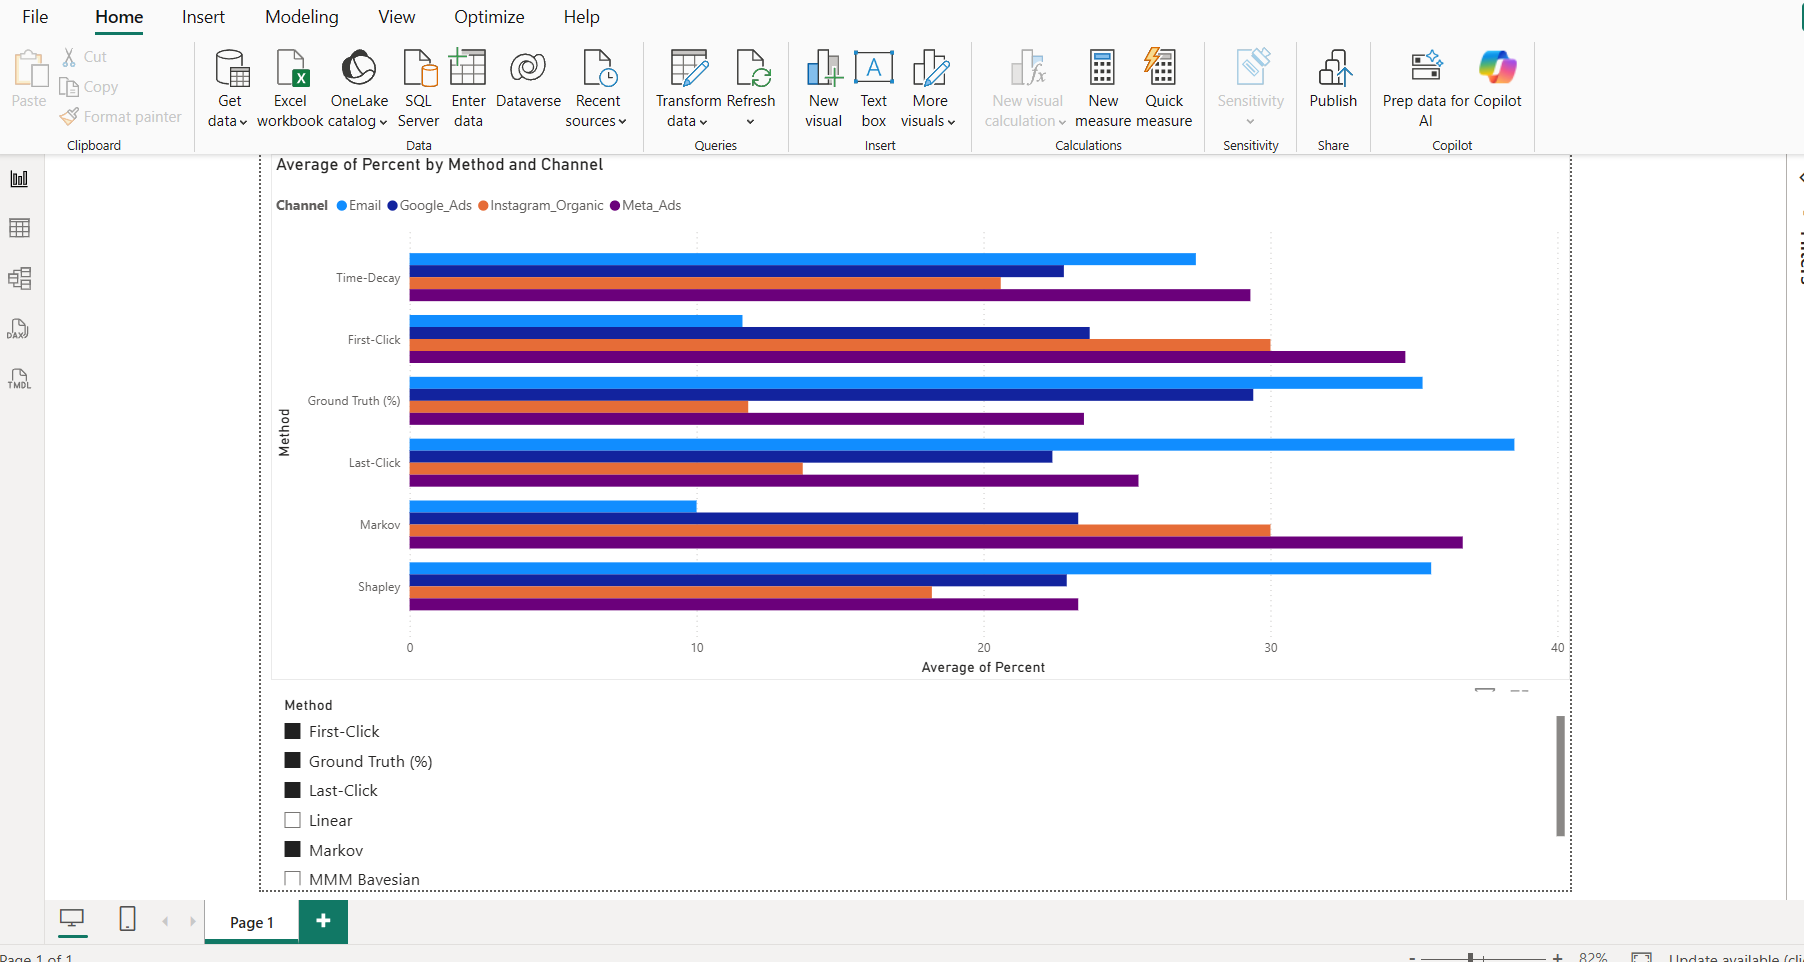

What the dashboard file says about the page in this screenshot:
{"tool":"powerbi","page":{"name":"Page 1","canvas":[1280,720],"ordinal":0},"visuals":[{"type":"clusteredBarChart","fields":{"Category":["attribution_unified_comparison.Method"],"Y":["Avg(attribution_unified_comparison.Percent)"],"Series":["attribution_unified_comparison.Channel"]},"box":[9.6,0,1270.7,514.6],"z":0},{"type":"slicer","fields":{"Values":["attribution_unified_comparison.Method"]},"box":[9.6,525.6,1270.7,194.9],"z":1000}]}

Visuals, with their boxes on the page's 1280x720 design canvas (x1, y1, x2, y2). These are canvas units, not pixel positions in the 1804x962 screenshot, which may show the page scaled, cropped or inside an application window:
clusteredBarChart - attribution_unified_comparison.Method x Avg(attribution_unified_comparison.Percent): 10 0 1280 515
slicer - attribution_unified_comparison.Method: 10 526 1280 720
